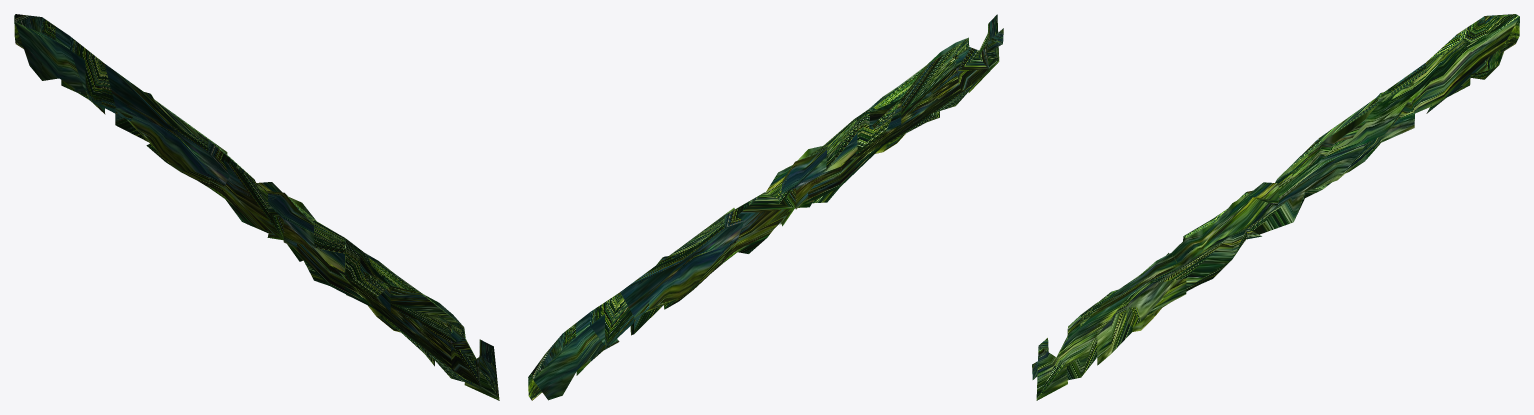
The picture shows the model from 3 angles, left to right: view 1: azimuth 30°, elevation 25°; view 2: azimuth 150°, elevation 25°; view 3: azimuth 330°, elevation 25°; orthographic projection. The views are drawn at different scales.
Parts seen in each view (by area): view 1: algae_cube_Cube; view 2: algae_cube_Cube; view 3: algae_cube_Cube.
Boxes of the visible parts, left/top/right/bottom form: algae_cube_Cube: left=14, top=14, right=499, bottom=400; algae_cube_Cube: left=528, top=14, right=1003, bottom=400; algae_cube_Cube: left=1032, top=14, right=1519, bottom=400.
Size of the model in its own units: 0.0148 by 0.2078 by 2.77.
